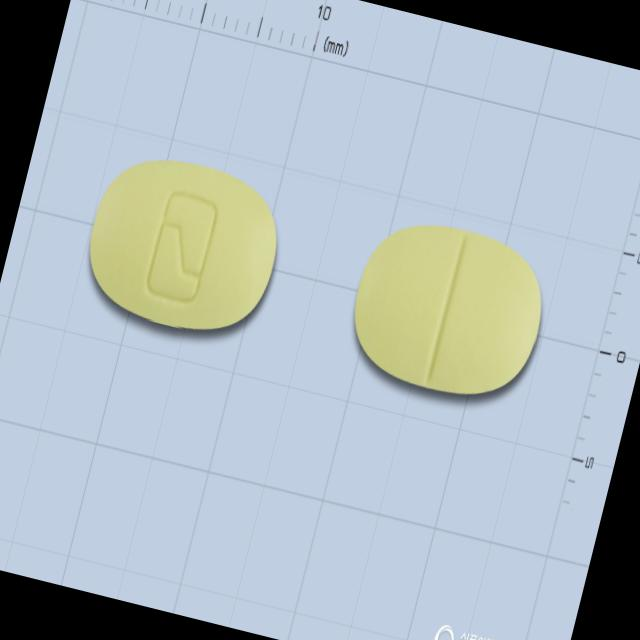Claroma Tab-500mg: (72, 137, 296, 351)
